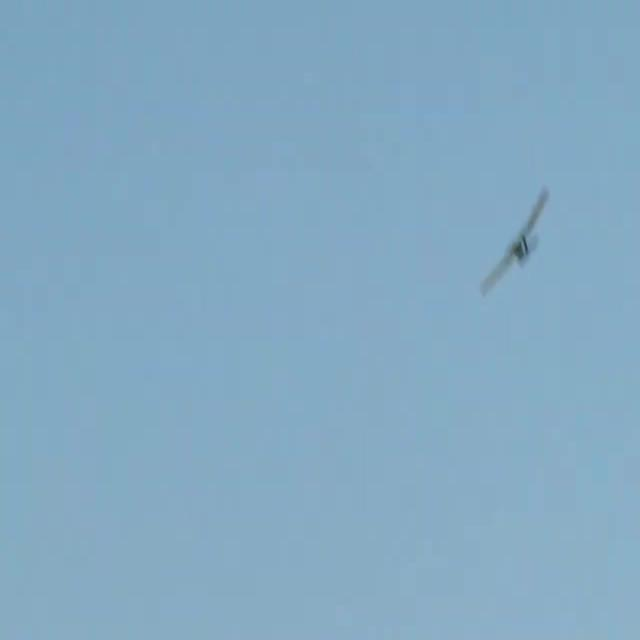iha: (512, 219, 518, 268)
